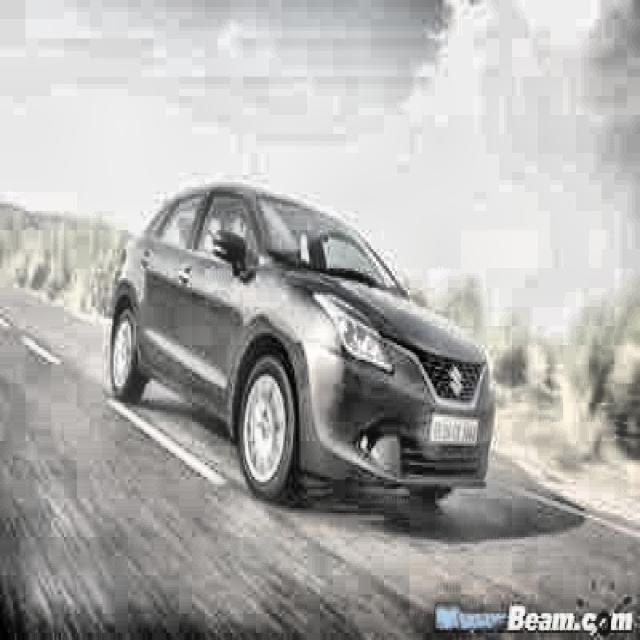license_plate: (429, 414, 478, 448)
